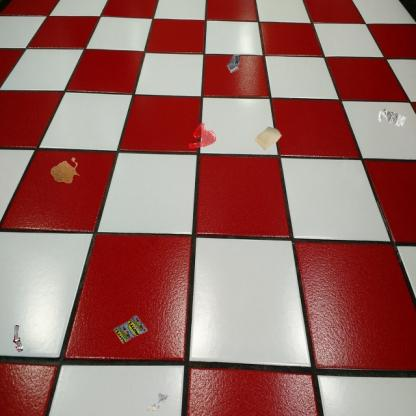dirty: (112, 313, 148, 345), (251, 124, 283, 154), (376, 106, 407, 128), (143, 392, 168, 416), (10, 323, 25, 354), (225, 53, 241, 74)
liquid: (187, 122, 217, 150), (50, 157, 79, 183)
